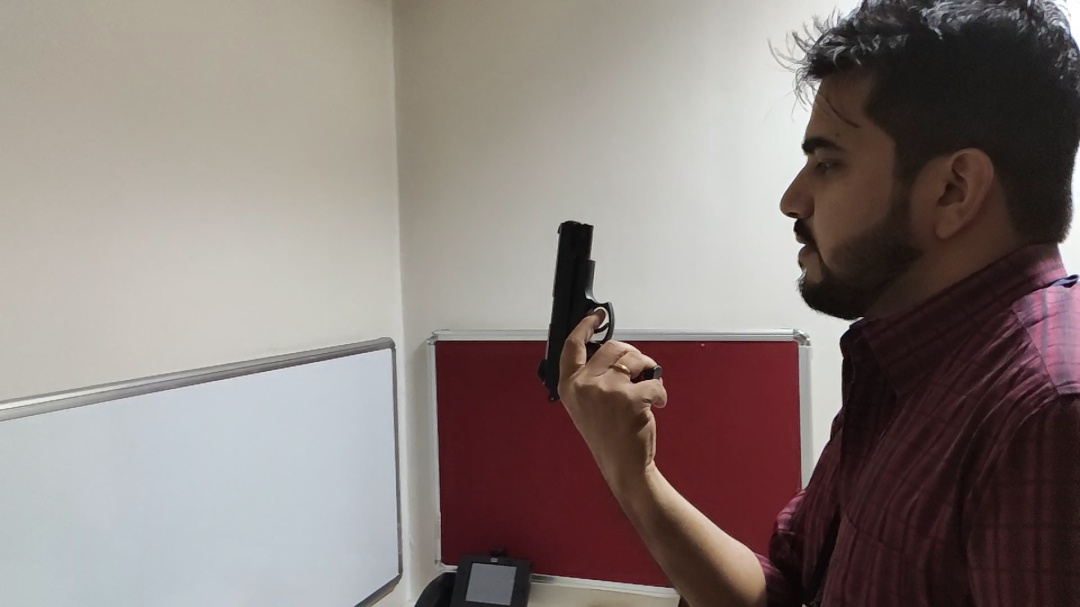gun: (537, 220, 665, 408)
